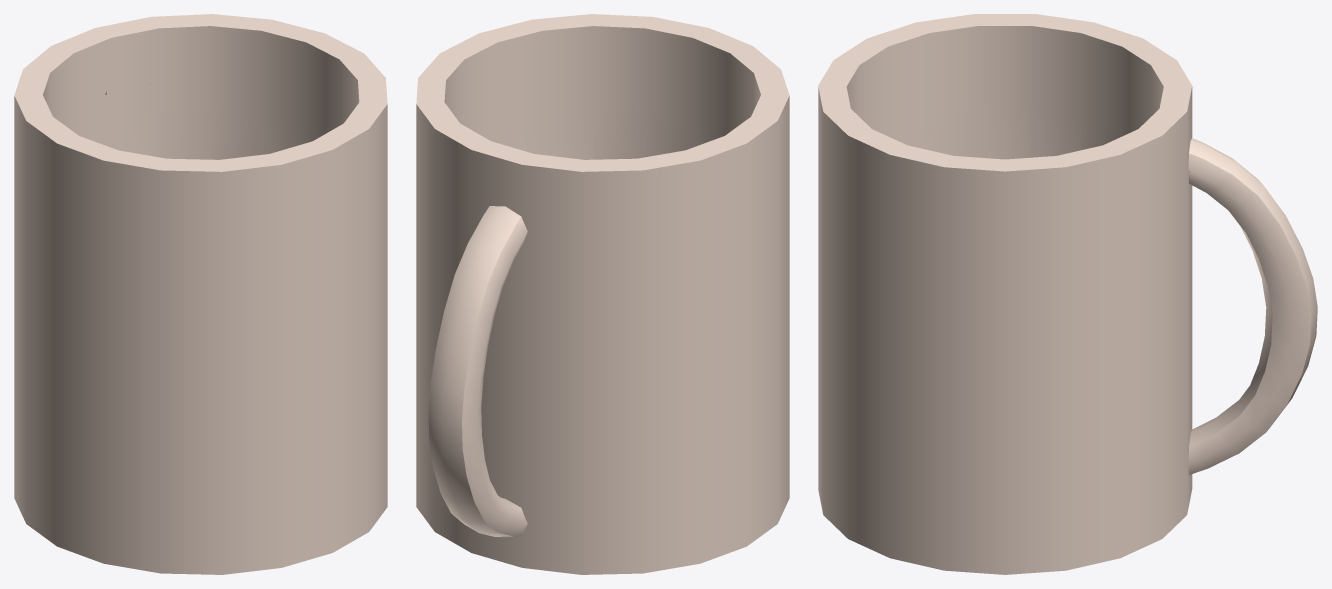
File: Cup.fbx
3 views of the same model, side by side, from view 1: azimuth 30°, elevation 25°; view 2: azimuth 150°, elevation 25°; view 3: azimuth 270°, elevation 25° (orthographic).
Parts seen in each view (by area): view 1: Cylinder009; view 2: Cylinder009; view 3: Cylinder009.
Boxes of the visible parts, x1,y1,x2,y2 form: Cylinder009: [14, 14, 387, 574]; Cylinder009: [416, 14, 789, 574]; Cylinder009: [818, 14, 1317, 574].
Size of the model in its own units: 23.2 by 27.7 by 31.09.
